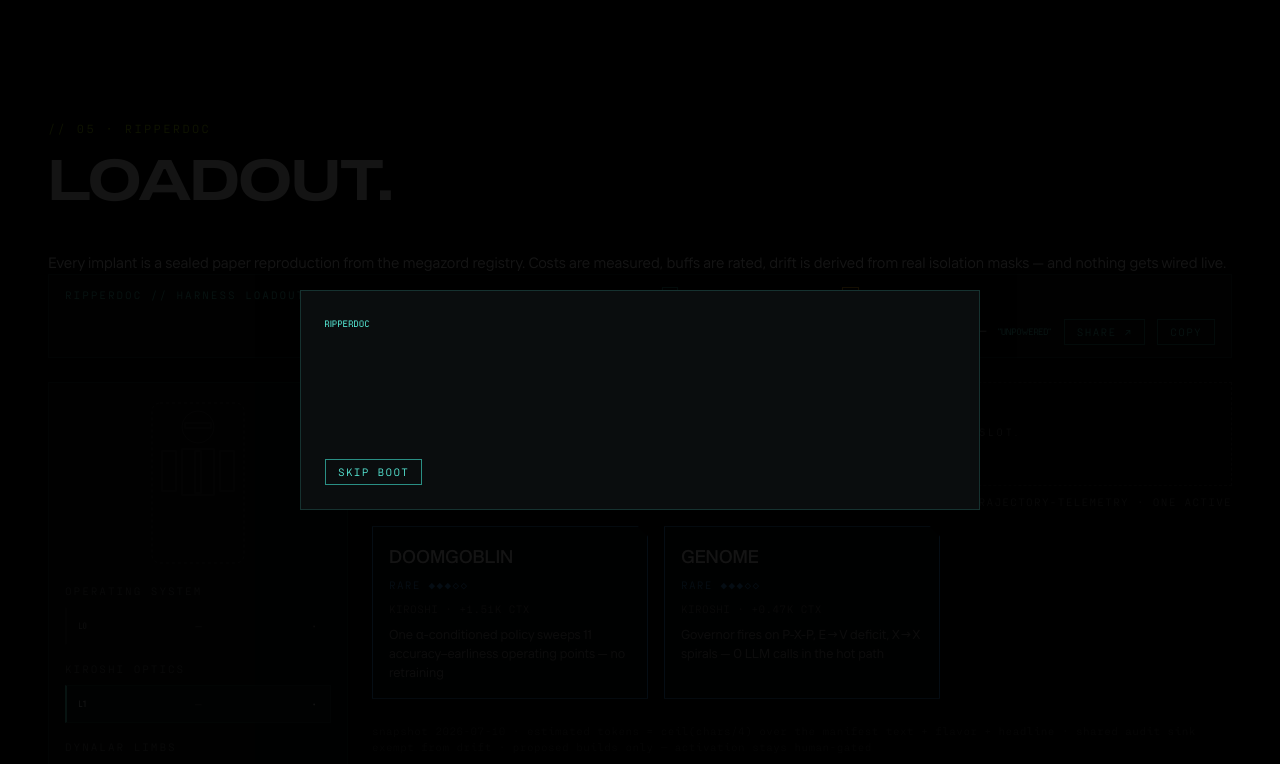
Test case: Loadout › shows the calibration warning for doomgoblin
The image size is (1280, 764).
Click the button "Skip boot": (374, 472) [325,459,422,485]
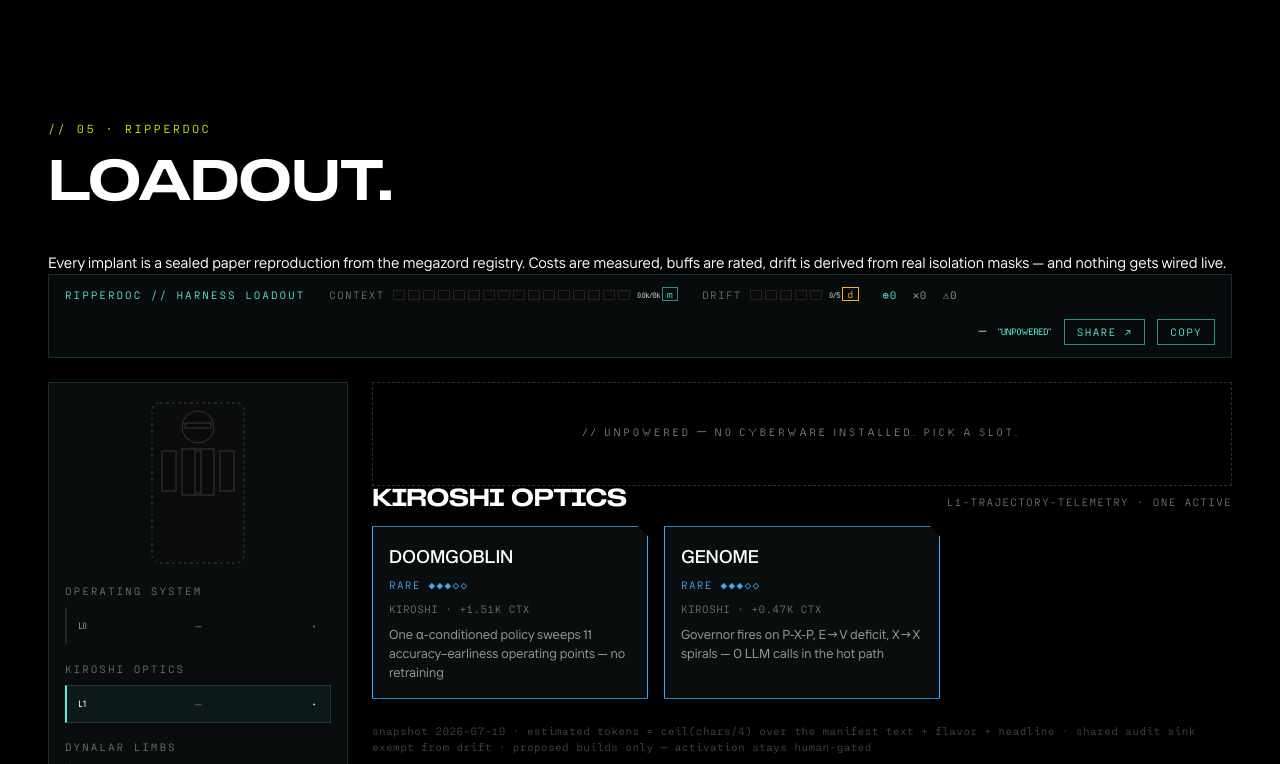
Click the button with aria-label "doomgoblin — inspect implant": (510, 612) [372,526,648,699]
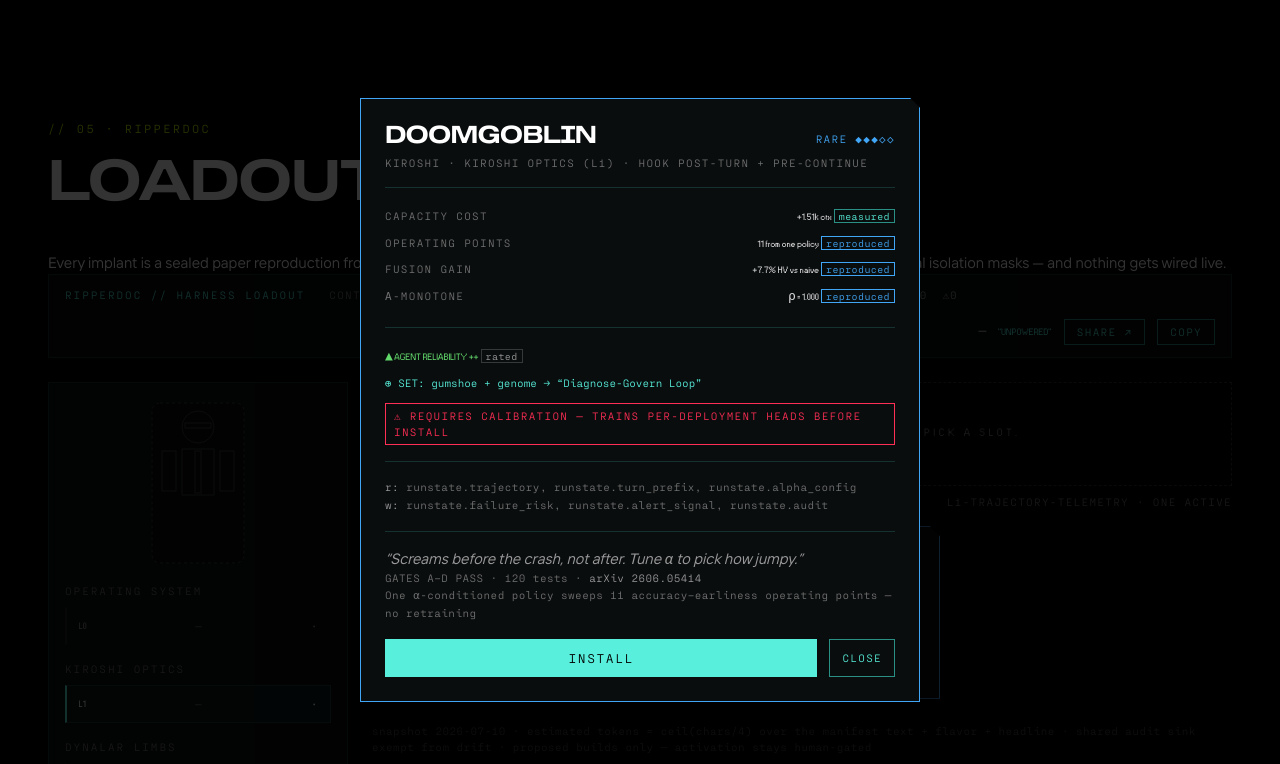
Check: the text "requires calibration" is shown, box [394,409,861,438]
